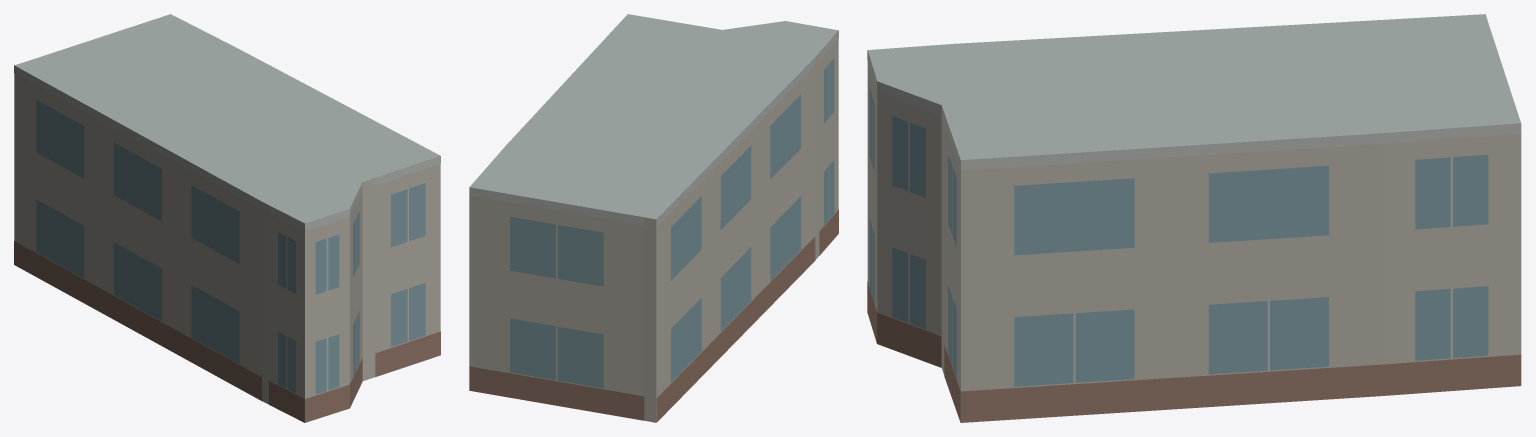
The model's file is survey-upis-32974135.glb.
3 renders of one model, left to right at view 1: azimuth 30°, elevation 25°; view 2: azimuth 150°, elevation 25°; view 3: azimuth 270°, elevation 25°, orthographic. The views are drawn at different scales.
Visible parts, largest first — view 1: survey-upis-32974135.tmp; view 2: survey-upis-32974135.tmp; view 3: survey-upis-32974135.tmp.
Boxes of the visible parts, left/top/right/bottom form: survey-upis-32974135.tmp: left=14, top=14, right=440, bottom=422; survey-upis-32974135.tmp: left=469, top=14, right=838, bottom=422; survey-upis-32974135.tmp: left=867, top=14, right=1521, bottom=422.
Size of the model in its own units: 7.29 by 6.1 by 13.76.
